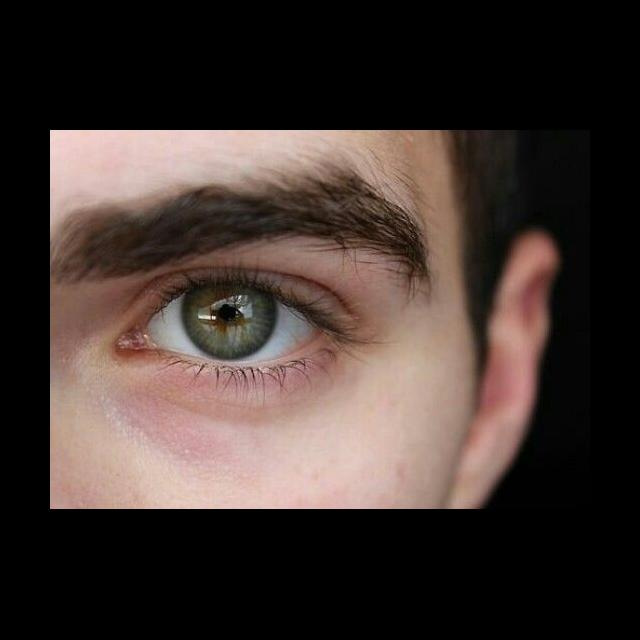eye: (148, 284, 323, 364)
